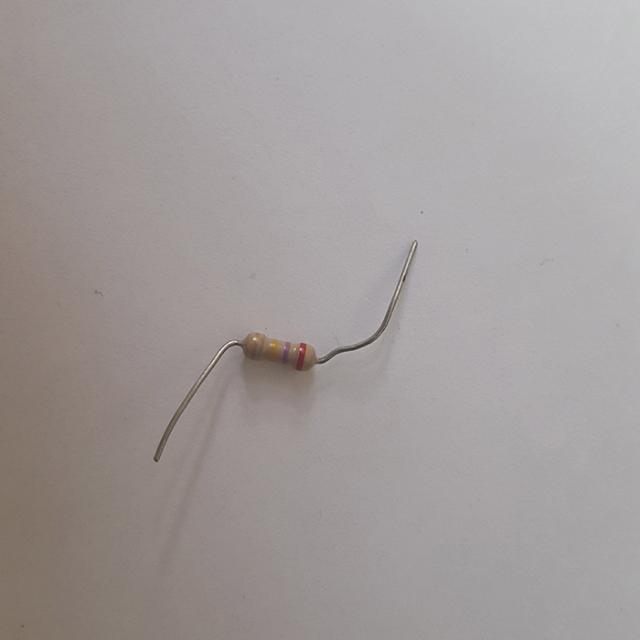gold: (252, 334, 260, 354)
red: (298, 343, 307, 368)
resistor: (234, 324, 325, 378)
violet: (283, 343, 290, 363)
yellow: (270, 341, 277, 359)
